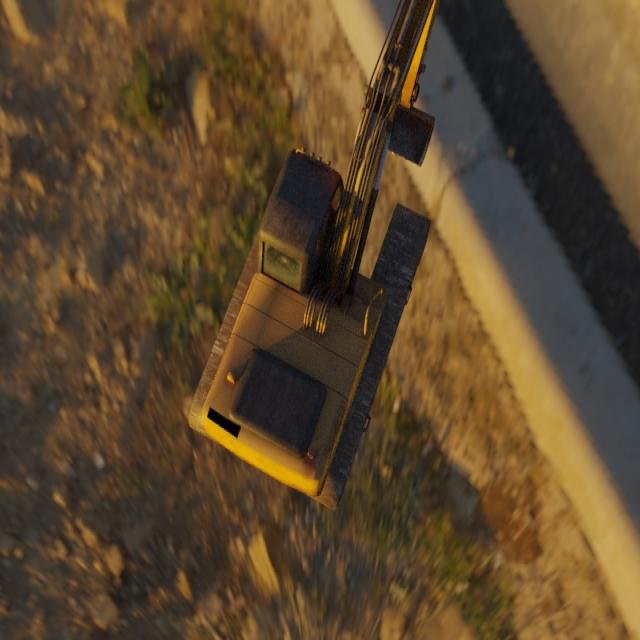excavator: (188, 0, 440, 513)
